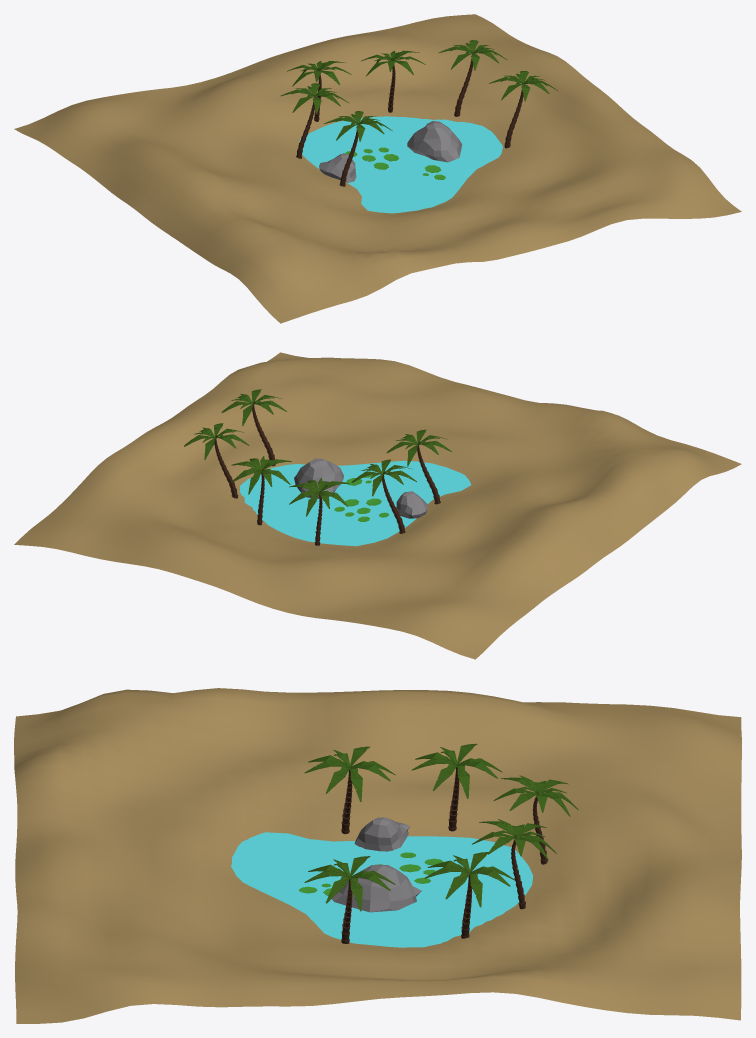
The model's file is oasis 1.fbx.
3 renders of one model, top to bottom at view 1: azimuth 30°, elevation 25°; view 2: azimuth 150°, elevation 25°; view 3: azimuth 270°, elevation 25°, orthographic. The views are drawn at different scales.
Visible parts, largest first — view 1: Plane.001, uploads_files_968058_3dLakeLowPoly.001; view 2: Plane.001, uploads_files_968058_3dLakeLowPoly.001; view 3: Plane.001, uploads_files_968058_3dLakeLowPoly.001.
Boxes of the visible parts, <box> form: Plane.001: <box>14,14,741,323</box>; uploads_files_968058_3dLakeLowPoly.001: <box>299,116,502,213</box>; Plane.001: <box>14,352,741,659</box>; uploads_files_968058_3dLakeLowPoly.001: <box>239,458,470,546</box>; Plane.001: <box>14,688,741,1023</box>; uploads_files_968058_3dLakeLowPoly.001: <box>231,817,532,947</box>.
Bounding box in the file's own units: 44159 × 6246 × 43962.
